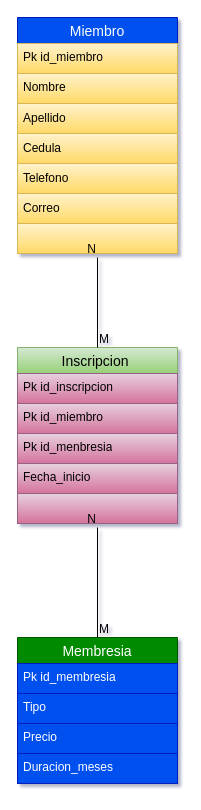
The diagram is 201 pixels wide and 810 high, and some of its shapes have lost their labels. Here are the shapes that lost their labels. From the top down, the centre of each, then its label:
At pixel 97 238: "Fecha_ingreso".
At pixel 97 508: "Fecha_fin".
